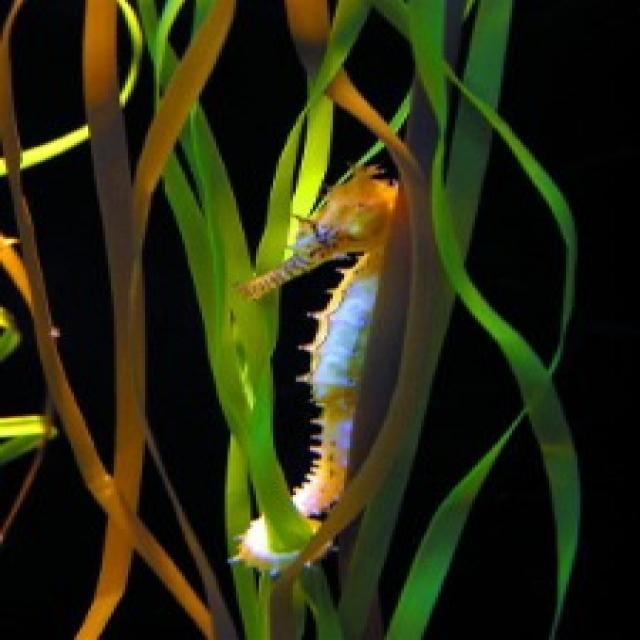Seahorse: (230, 141, 406, 582)
